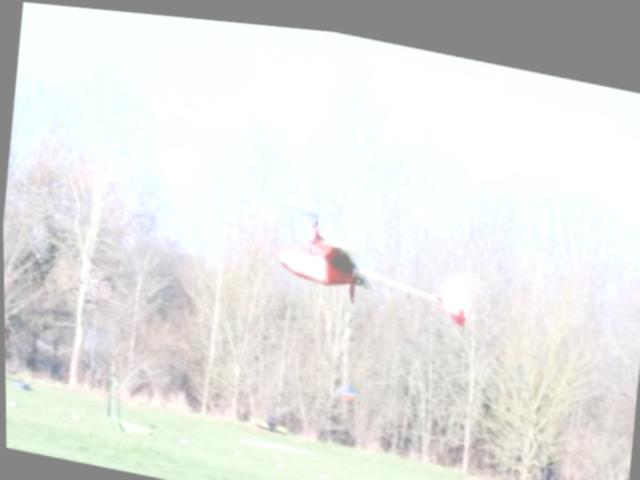uav: (260, 190, 485, 331)
